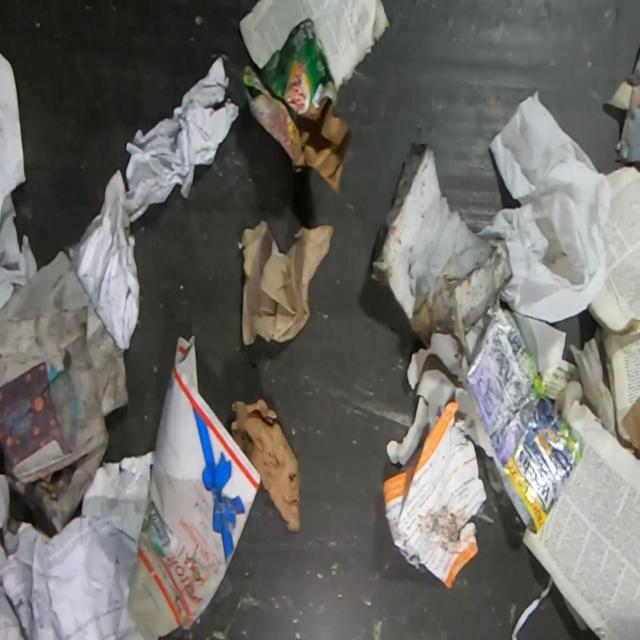cardboard: (126, 333, 261, 640), (240, 14, 351, 192), (227, 398, 304, 530)
soft_plastic: (466, 308, 583, 537)
